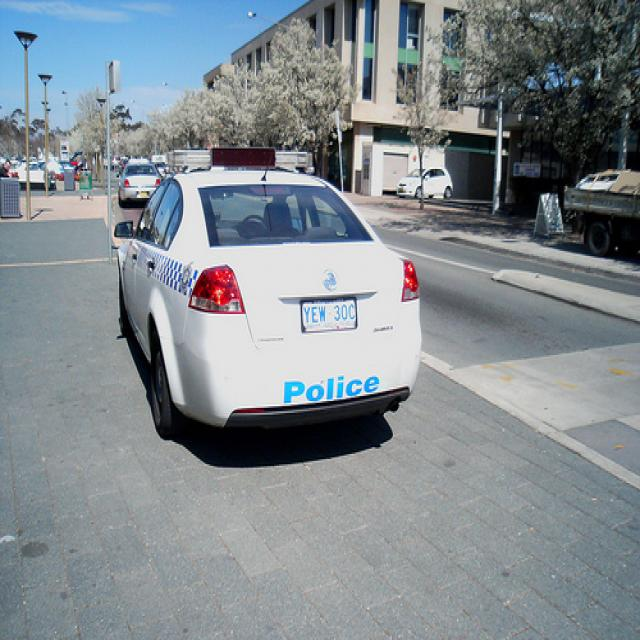Car: (114, 142, 426, 445), (395, 164, 457, 210), (116, 153, 168, 206)
